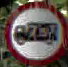Heavy Vehicles: (5, 0, 67, 66)
